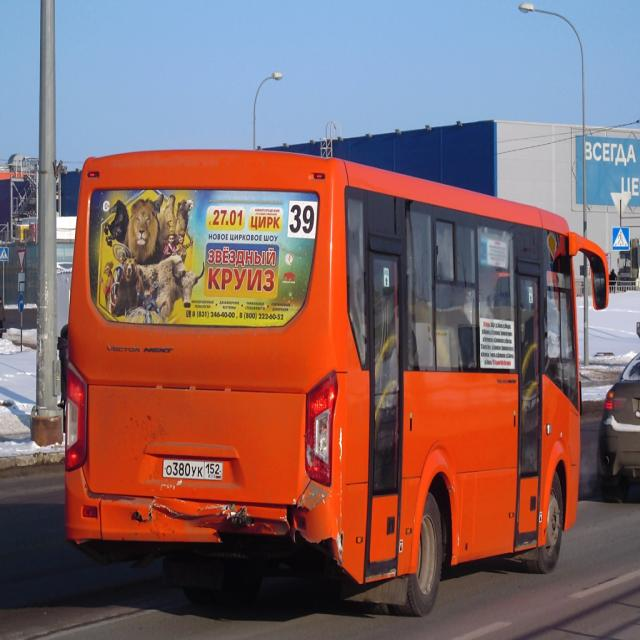number-of-bus: (289, 200, 319, 239)
